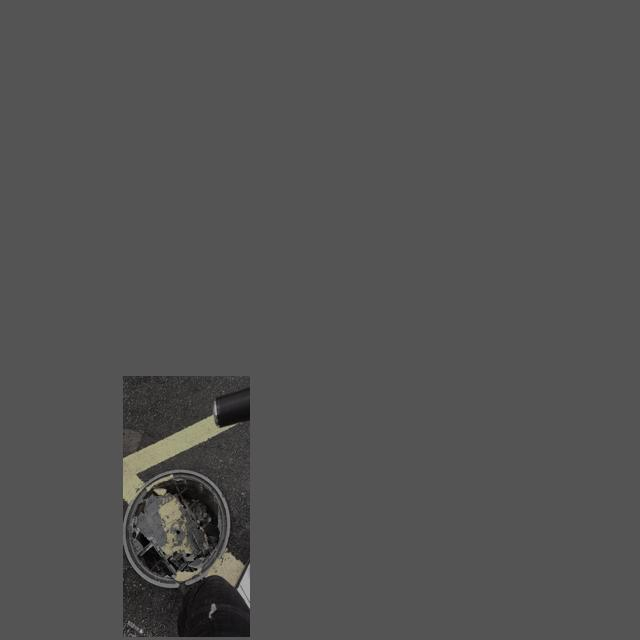broke: (126, 464, 234, 587)
